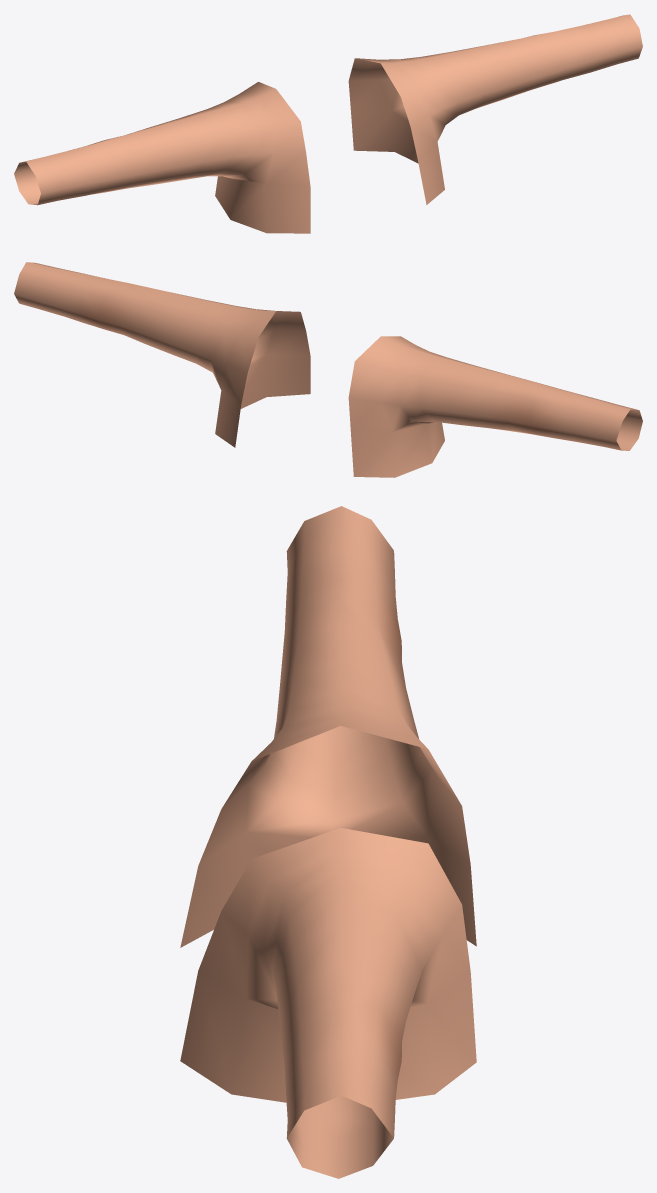
File: Body_Yellow_ArmB_2.fbx
3 renders of one model, top to bottom at view 1: azimuth 30°, elevation 25°; view 2: azimuth 150°, elevation 25°; view 3: azimuth 270°, elevation 25°, orthographic. The views are drawn at different scales.
Visible parts, largest first — view 1: Body_Yellow_ArmB_2; view 2: Body_Yellow_ArmB_2; view 3: Body_Yellow_ArmB_2.
Boxes of the visible parts, box(x1,y1,x2,y2) form: Body_Yellow_ArmB_2: box(14, 14, 642, 233); Body_Yellow_ArmB_2: box(14, 262, 642, 477); Body_Yellow_ArmB_2: box(180, 506, 476, 1178).
Bounding box in the file's own units: 95.86 × 17.74 × 20.37.
